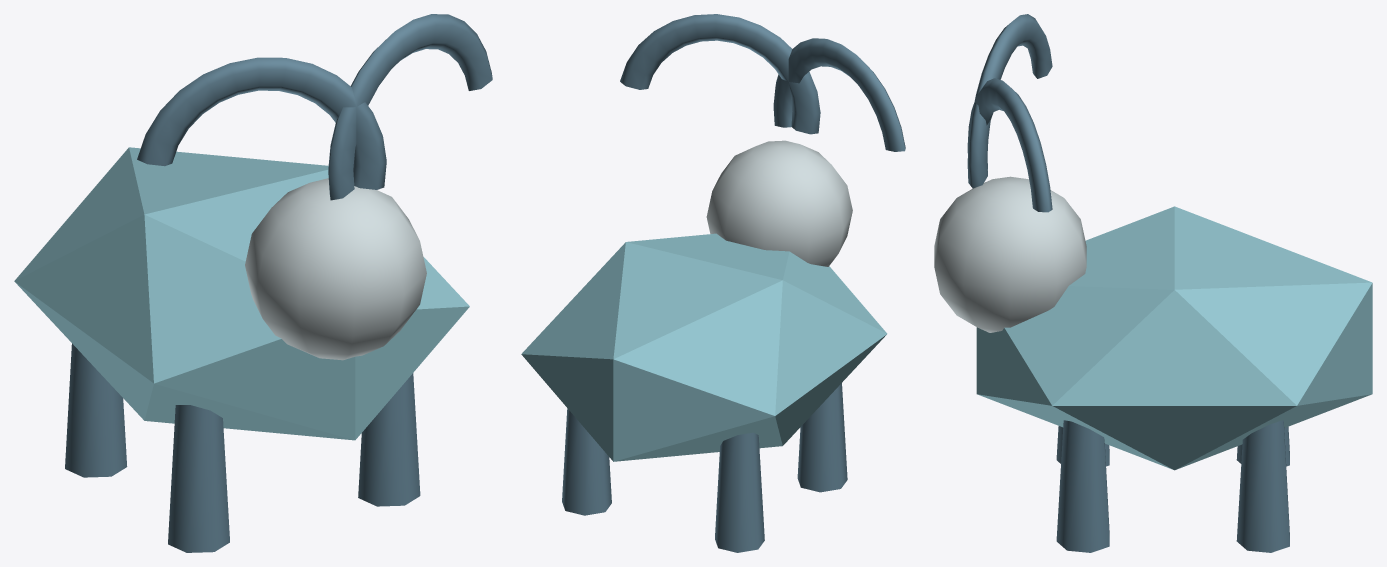
Rendered from frost_stag.glb.
3 views of the same model, side by side, from view 1: azimuth 30°, elevation 25°; view 2: azimuth 150°, elevation 25°; view 3: azimuth 270°, elevation 25° (orthographic). The views are drawn at different scales.
Visible parts, largest first — view 1: body_core, head_core, antler_-1, leg_-1_1, antler_1, leg_-1_-1, leg_1_1; view 2: body_core, head_core, antler_1, leg_-1_-1, antler_-1, leg_-1_1, leg_1_-1; view 3: body_core, head_core, leg_1_1, leg_1_-1, antler_-1, antler_1.
Part boxes in pixels (bbox=[...]): body_core: bbox=[14, 147, 469, 440]; head_core: bbox=[245, 178, 426, 360]; antler_-1: bbox=[137, 57, 386, 189]; leg_-1_1: bbox=[168, 405, 229, 552]; antler_1: bbox=[328, 14, 492, 200]; leg_-1_-1: bbox=[65, 343, 127, 477]; leg_1_1: bbox=[358, 373, 420, 506]; body_core: bbox=[521, 233, 887, 461]; head_core: bbox=[706, 140, 852, 266]; antler_1: bbox=[620, 14, 820, 134]; leg_-1_-1: bbox=[715, 432, 764, 552]; antler_-1: bbox=[773, 38, 905, 151]; leg_-1_1: bbox=[797, 383, 847, 492]; leg_1_-1: bbox=[562, 408, 611, 515]; body_core: bbox=[976, 206, 1372, 470]; head_core: bbox=[934, 176, 1086, 332]; leg_1_1: bbox=[1056, 420, 1109, 552]; leg_1_-1: bbox=[1236, 420, 1289, 552]; antler_-1: bbox=[967, 14, 1052, 188]; antler_1: bbox=[967, 78, 1052, 212].
Size of what is drawn, in the model's own units: 1.79 by 2.45 by 2.19.
